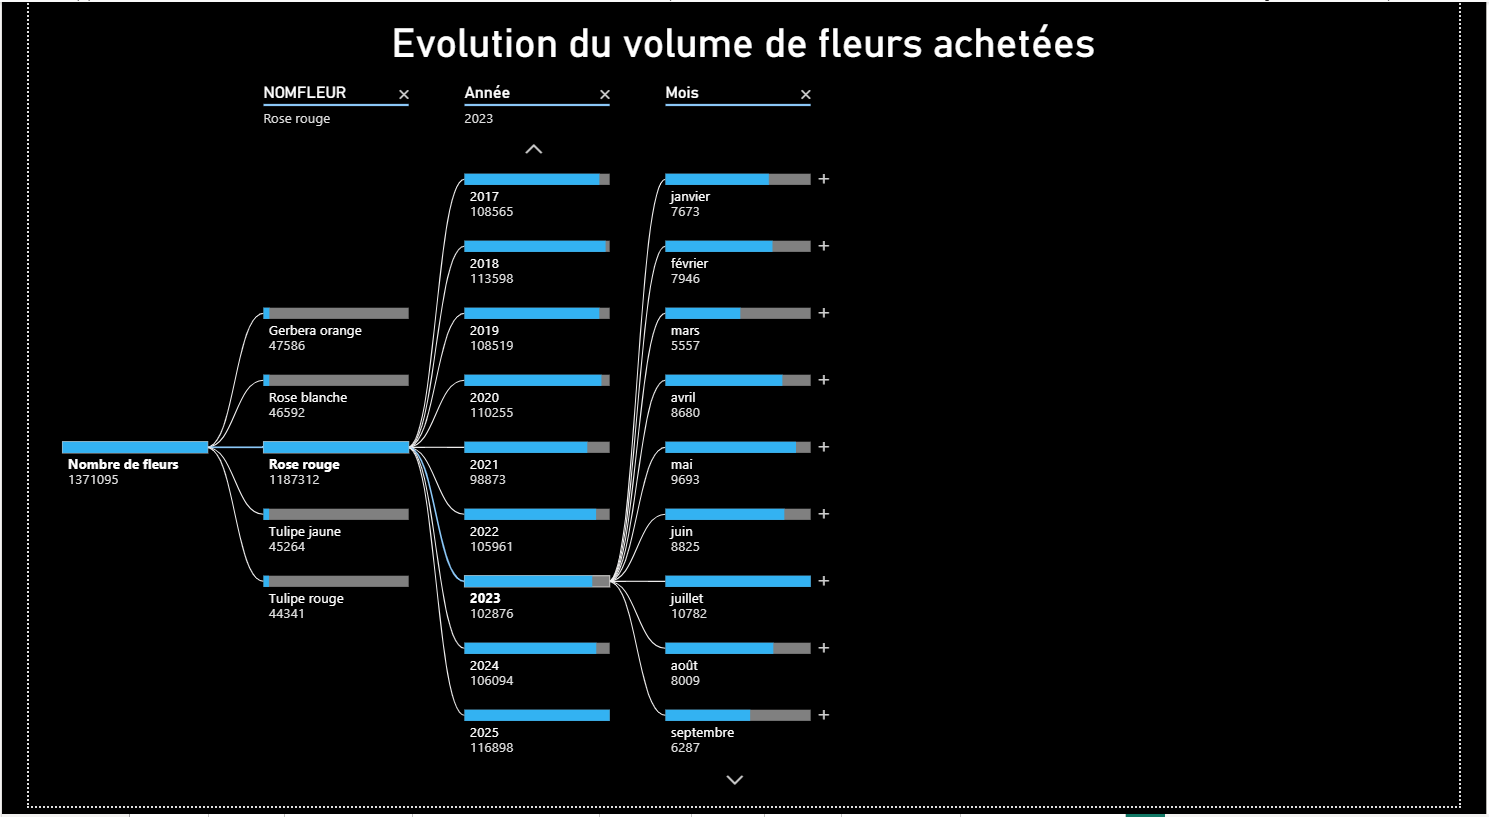

What the dashboard file says about the page in this screenshot:
{"tool":"powerbi","page":{"name":"Fleurs","canvas":[1280,720],"ordinal":5},"visuals":[{"type":"decompositionTreeVisual","title":"Evolution du volume de fleurs achetées","fields":{"Analyze":["Sum(SAE_ACHATFLEUR.NBRFLEURS)"],"ExplainBy":["SAE_ACHATFLEUR.NOMFLEUR","SAE_ACHATFLEUR.DATEACHAT.Variation.Hiérarchie de dates.Année","SAE_ACHATFLEUR.DATEACHAT.Variation.Hiérarchie de dates.Mois","SAE_ACHATFLEUR.DATEACHAT.Variation.Hiérarchie de dates.Trimestre","SAE_ACHATFLEUR.DATEACHAT.Variation.Hiérarchie de dates.Jour"]},"box":[0,15.1,1279.5,704.1],"z":0}]}

Visuals, with their boxes in screenshot pixels (x1, y1, x2, y2), scaled from the page's 1280x720 canvas onto the 1489x817 screenshot:
"Evolution du volume de fleurs achetées" decompositionTreeVisual: l=0, t=17, r=1488, b=816
